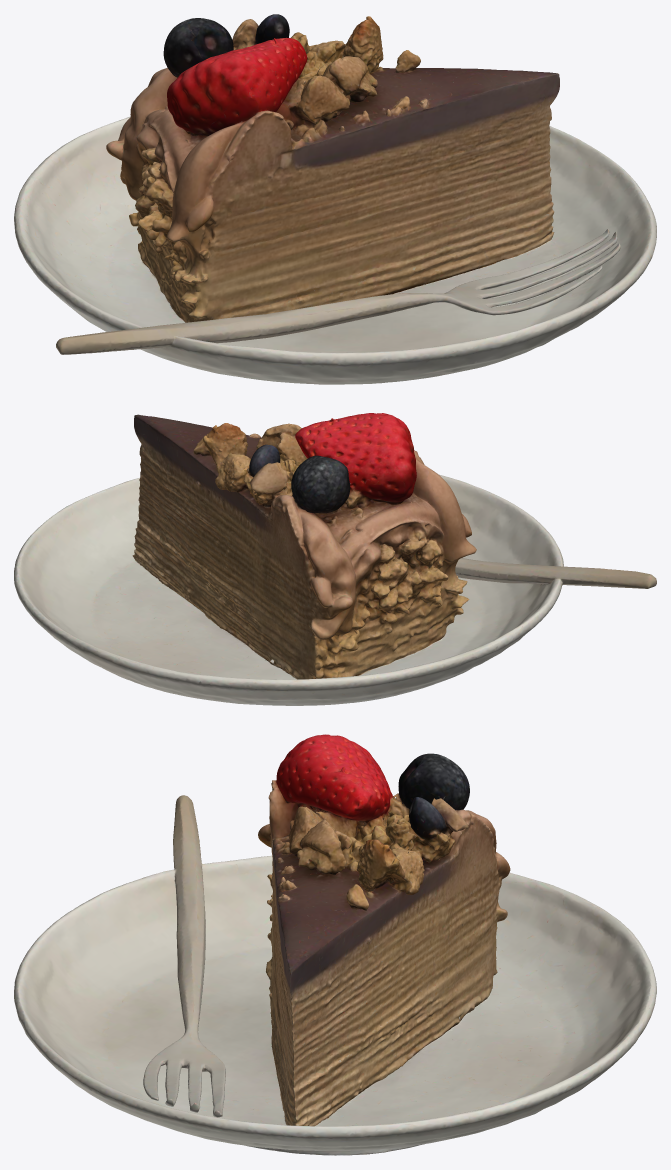
The picture shows the model from 3 angles, top to bottom: view 1: azimuth 30°, elevation 25°; view 2: azimuth 150°, elevation 25°; view 3: azimuth 270°, elevation 25°; orthographic projection. The views are drawn at different scales.
Visible parts, largest first — view 1: world; view 2: world; view 3: world.
Boxes of the visible parts, x1,y1,x2,y2 form: world: [14, 14, 656, 384]; world: [14, 413, 656, 705]; world: [14, 734, 656, 1155].
Size of the model in its own units: 0.2147 by 0.0931 by 0.1886.
1 material, 1 textured.
